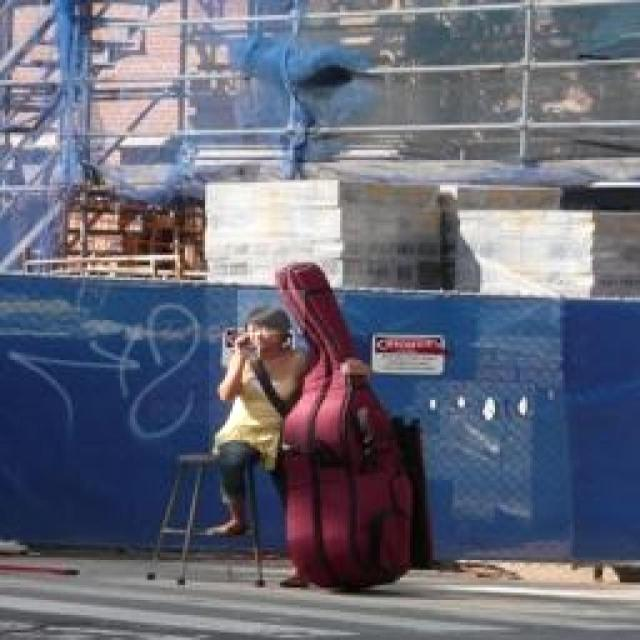Helmet: (209, 334, 315, 452), (237, 290, 305, 356)
